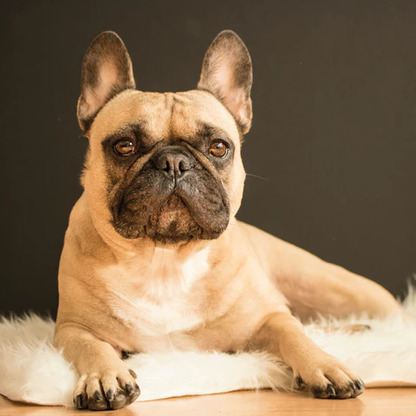bulldog: (49, 26, 396, 414)
